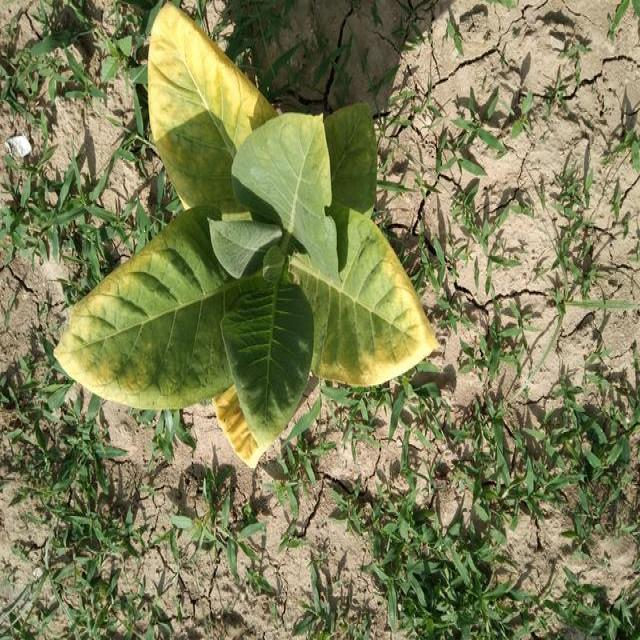crop: (63, 0, 452, 453)
